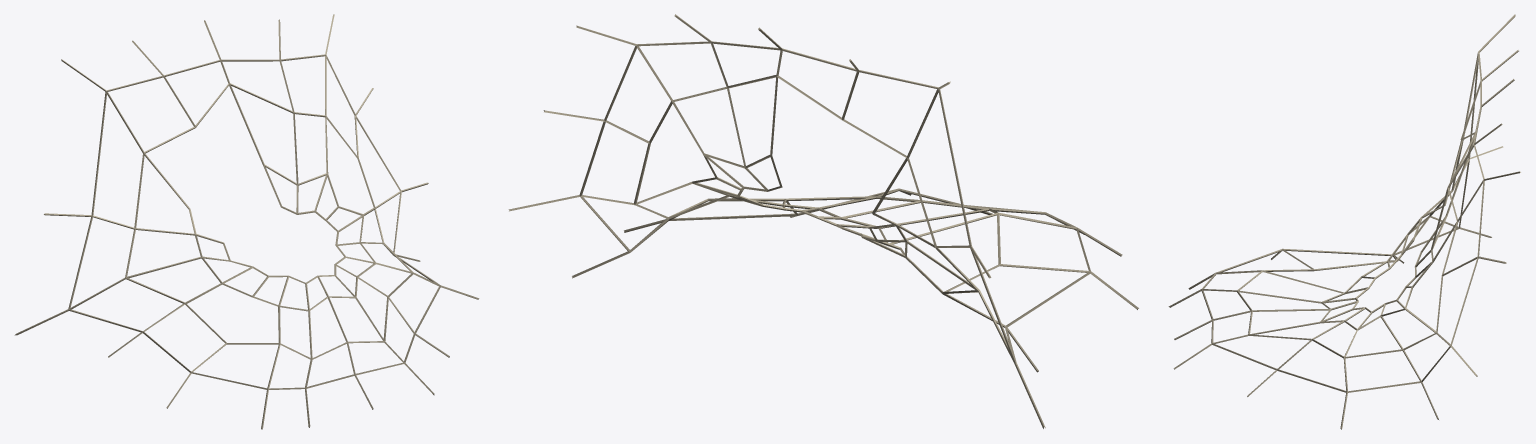
The model's file is pq_toile_araignee_1.glb.
3 renders of one model, left to right at view 1: azimuth 30°, elevation 25°; view 2: azimuth 150°, elevation 25°; view 3: azimuth 270°, elevation 25°, orthographic. The views are drawn at different scales.
Visible parts, largest first — view 1: Cobweb; view 2: Cobweb; view 3: Cobweb.
Part boxes in pixels (bbox=[...]): Cobweb: bbox=[14, 14, 479, 429]; Cobweb: bbox=[508, 14, 1138, 428]; Cobweb: bbox=[1168, 14, 1520, 429].
Bounding box in the file's own units: 1.21 × 0.7547 × 0.9109.
